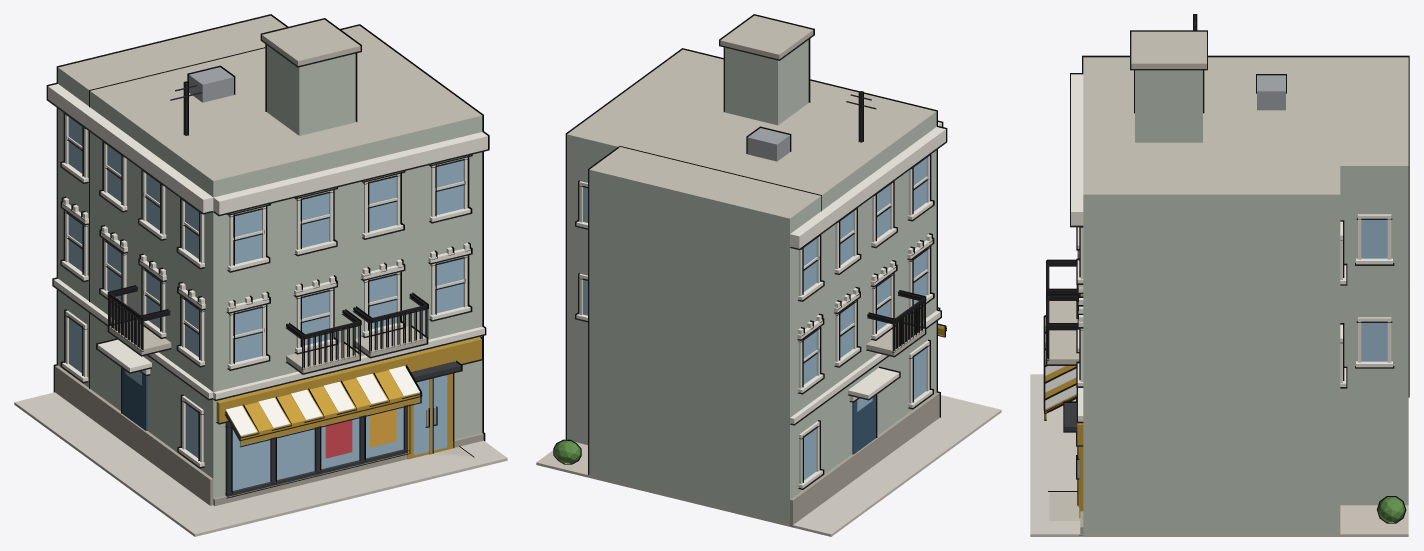
Rendered from Blok_kose_3k_3.fbx.
3 renders of one model, left to right at view 1: azimuth 30°, elevation 25°; view 2: azimuth 150°, elevation 25°; view 3: azimuth 270°, elevation 25°, orthographic. The views are drawn at different scales.
Visible parts, largest first — view 1: Blok_kose_3k_3; view 2: Blok_kose_3k_3; view 3: Blok_kose_3k_3.
Boxes of the visible parts, bbox=[...] form: Blok_kose_3k_3: bbox=[14, 14, 507, 536]; Blok_kose_3k_3: bbox=[536, 14, 1001, 536]; Blok_kose_3k_3: bbox=[1030, 14, 1409, 536].
Size of the model in its own units: 10.03 by 12.43 by 10.03.
